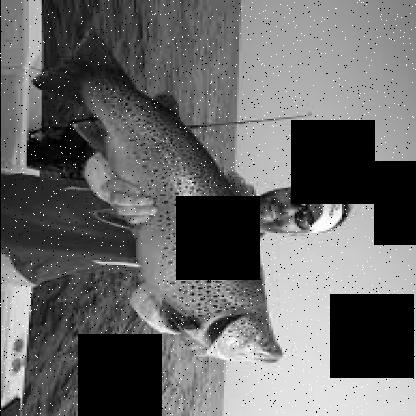fish: (43, 27, 282, 364)
